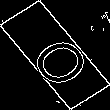O_NE: (17, 23, 93, 87)
